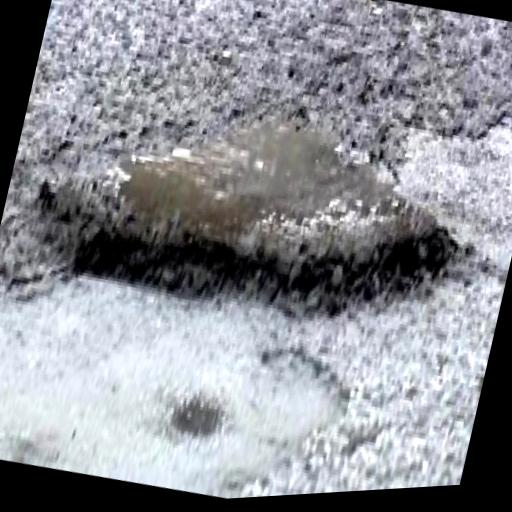pothole: (12, 44, 502, 386), (157, 386, 231, 461)
